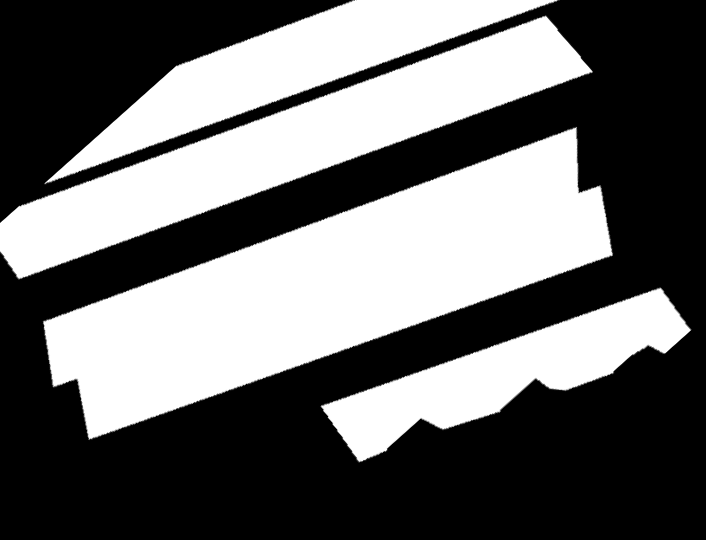parkingspot: (43, 127, 613, 440), (0, 16, 593, 279), (45, 0, 558, 184), (321, 288, 691, 462)
